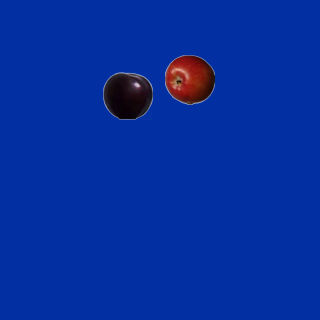Apple Braeburn: (164, 54, 214, 104)
Cherry Wax Black: (102, 70, 152, 120)
